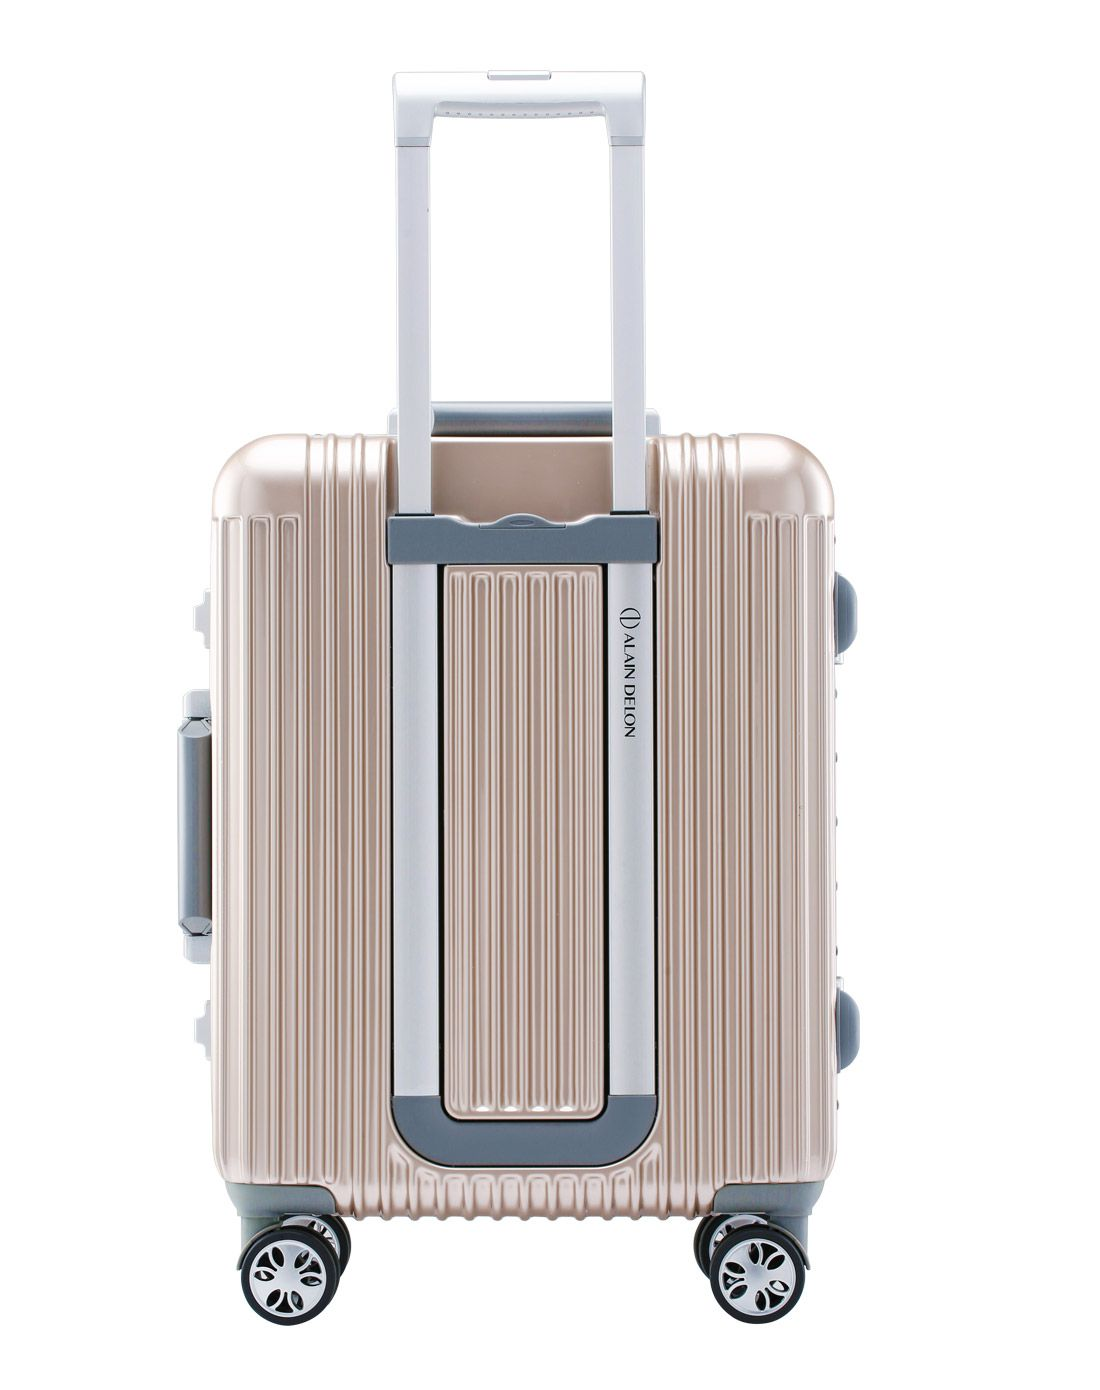suitcase: (174, 71, 861, 1327)
